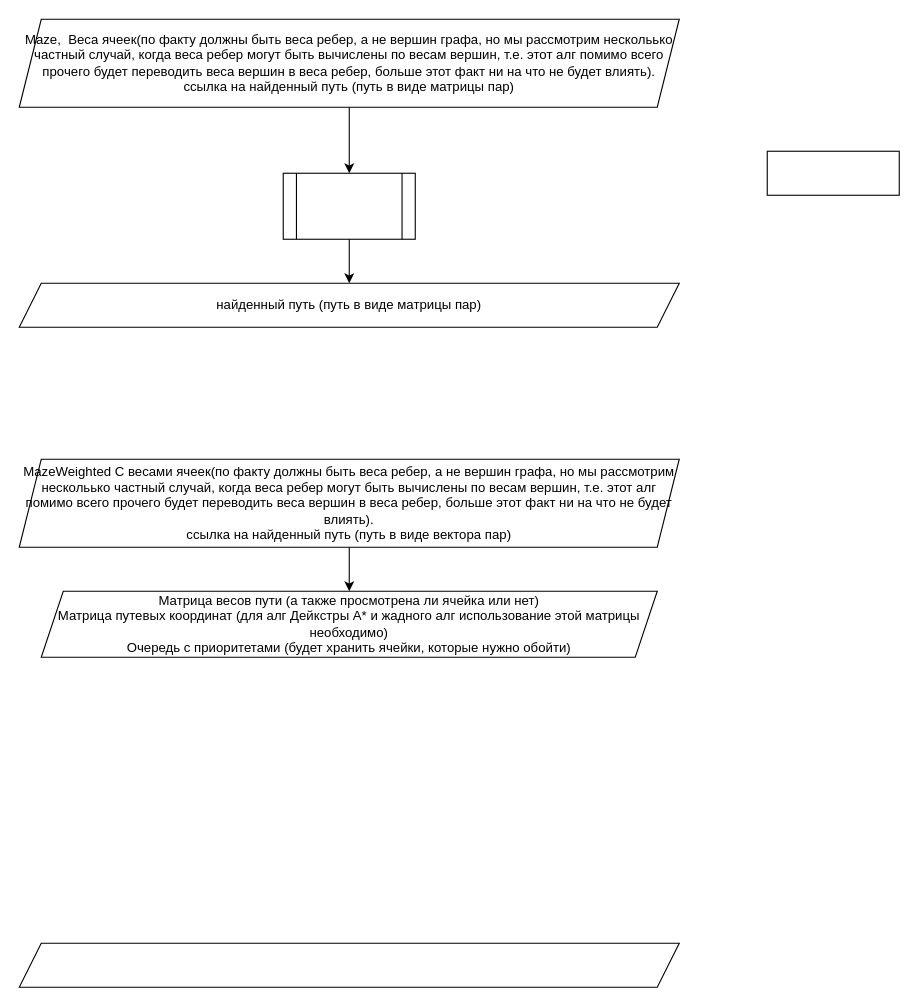
The diagram is 919 pixels wide and 1007 high, and some of its shapes have lost their labels. Each missing label, with the centre of its shape:
"Алгоритм А*" belongs at (348,205).
"найденный путь (путь в виде вектора пар)" belongs at (348,964).
